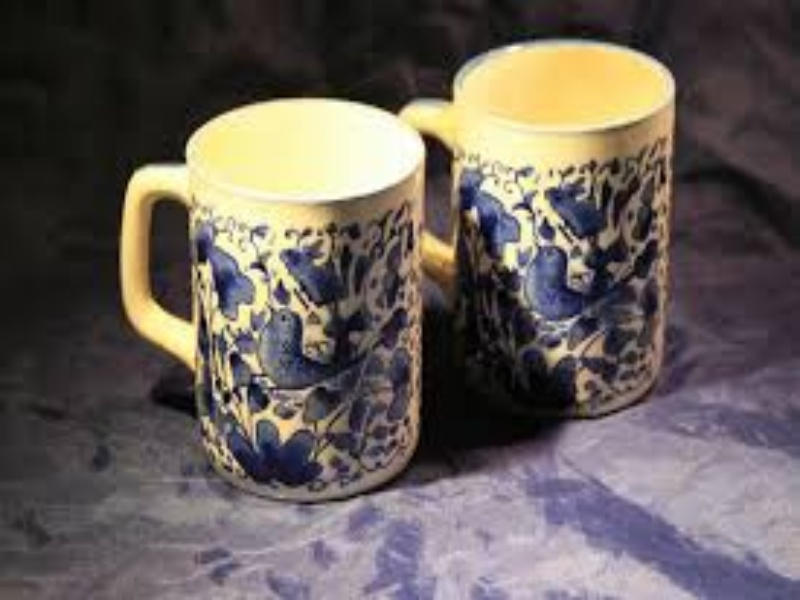cup: (127, 79, 444, 494), (415, 33, 702, 419)
